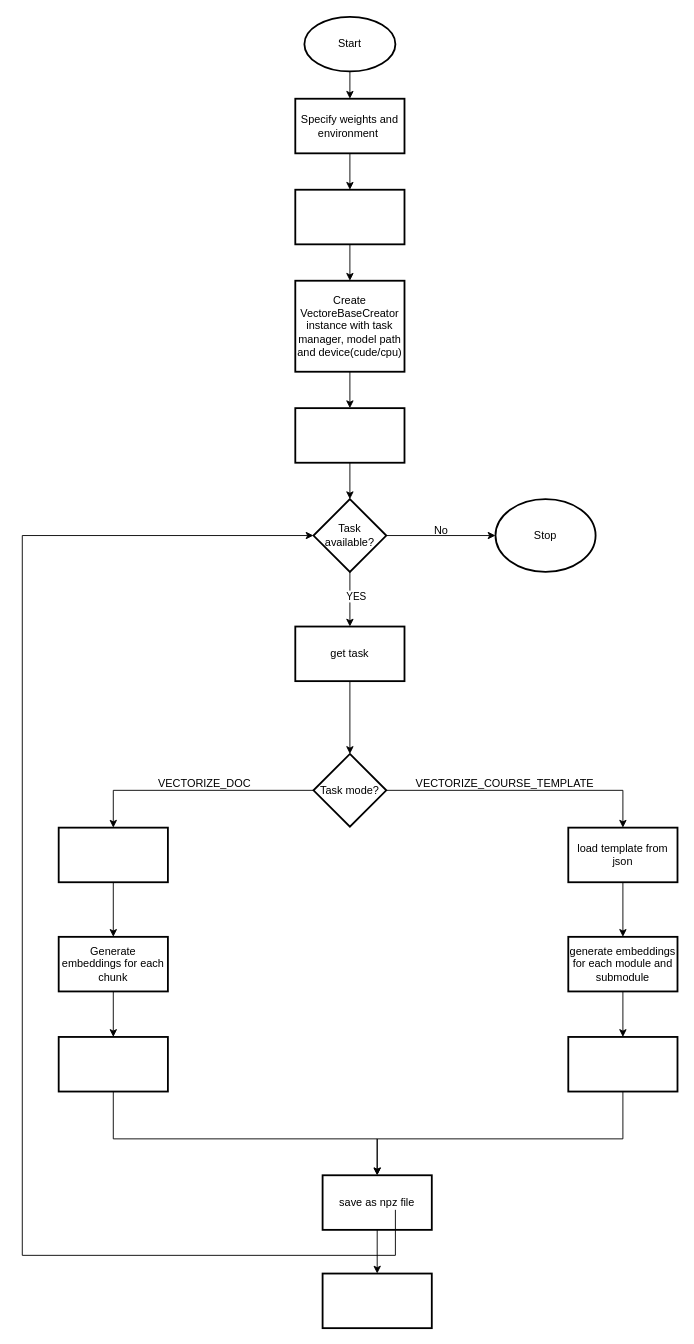
Image size: 694x1344. Some labels were removed from this diagram. The shapes that lost their labels are listed below. From the top down, each one's box as (x1, y1, x2, y2) in pixels, then its label:
(294, 188, 405, 245): Create Task manager (local/azure) with Mode and List of files
(294, 407, 405, 463): load sentence transformer model
(57, 826, 168, 883): Chunk document
(57, 1036, 168, 1092): Combine all the chunk embeddings into a single file
(567, 1036, 678, 1092): combine into single file
(321, 1272, 432, 1329): update status as task completed
